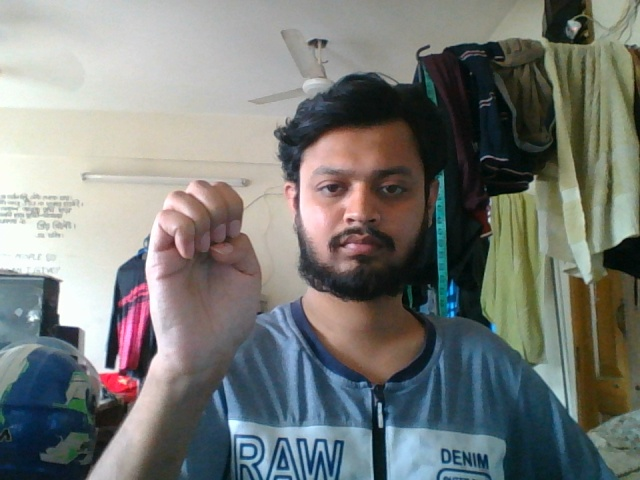sha: (145, 174, 270, 428)
